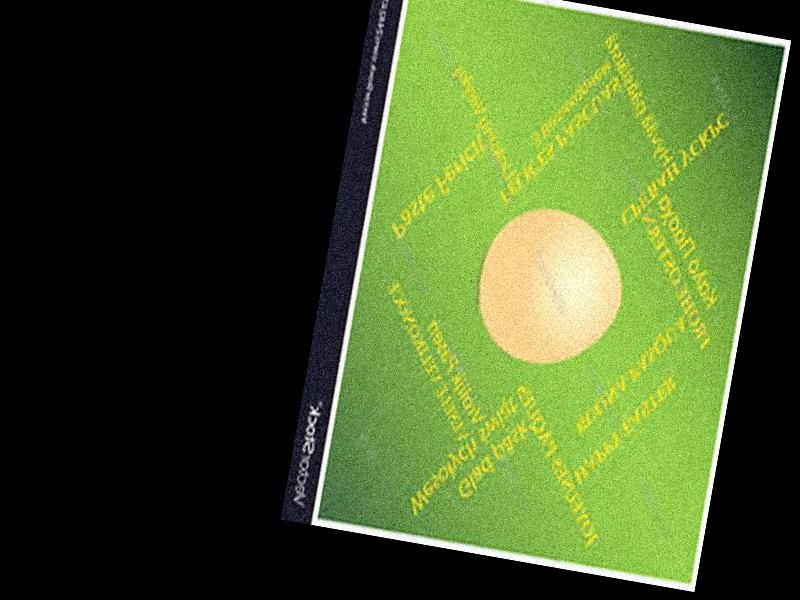Eggs: (469, 198, 630, 373)
